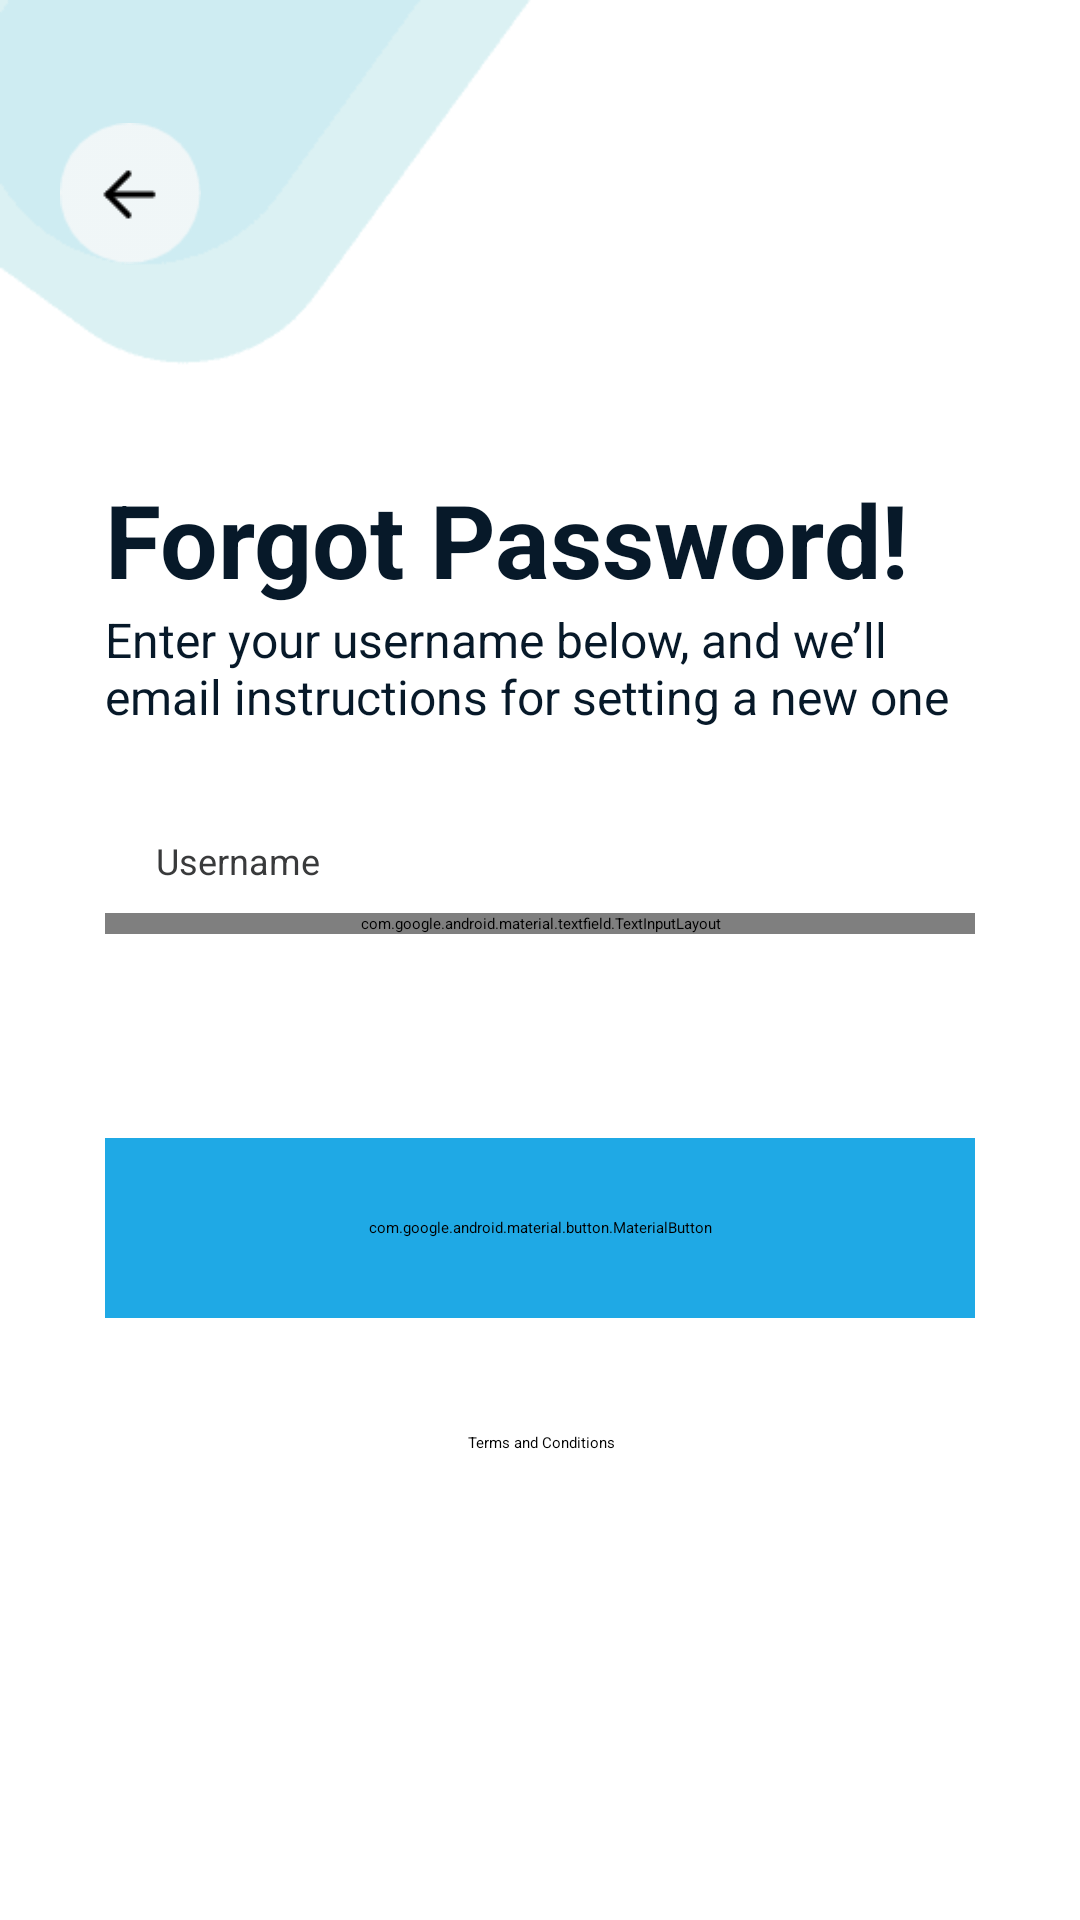

Named icons in this screenshot (1080*1920) and their bounding boxes, {"x1": x1, "y1": y1, "x2": x2, "y2": y2}:
forgot password back arrow: {"x1": 60, "y1": 123, "x2": 199, "y2": 262}
